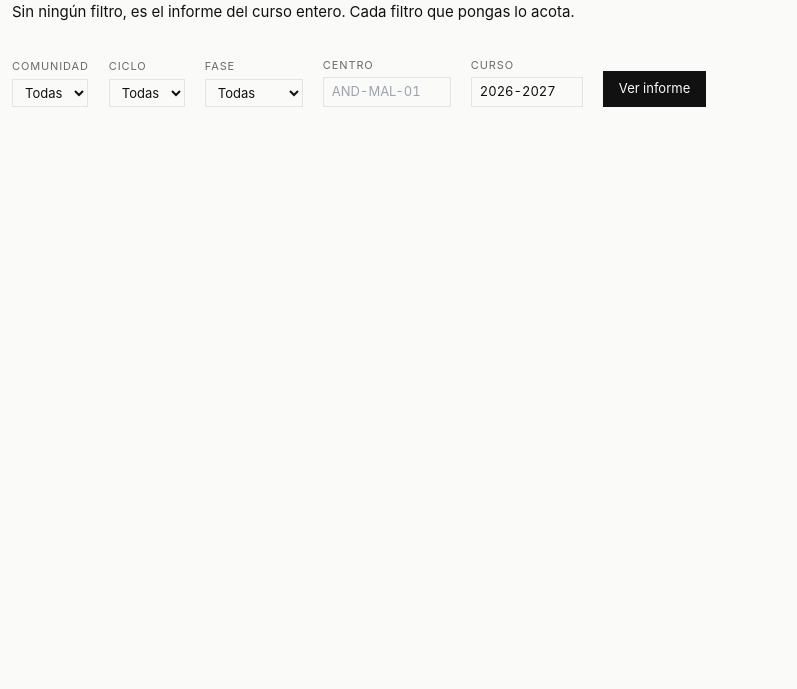
Test case: Informes › enseña el coste con el detalle que pidió el docente
Step 1. Click the button "Ver informe" → (654, 89), box [603,71,706,107]
(page scrolled)
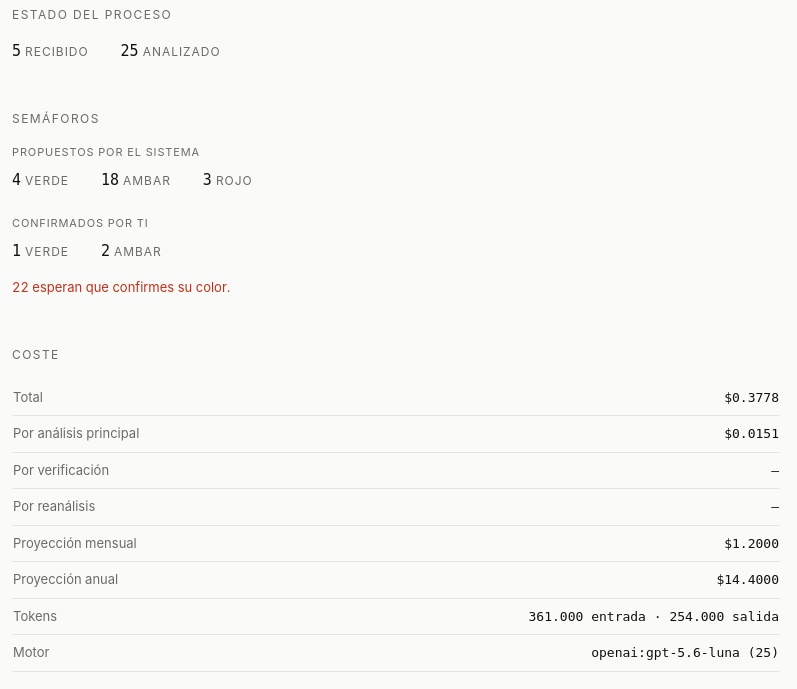
Check: the text "Por análisis principal" is shown, box [12,416,271,452]
Check: the text "Proyección anual" is shown, box [12,562,271,598]
Check: the text "openai:gpt-5.6-luna (25)" is shown, box [271,635,780,671]
